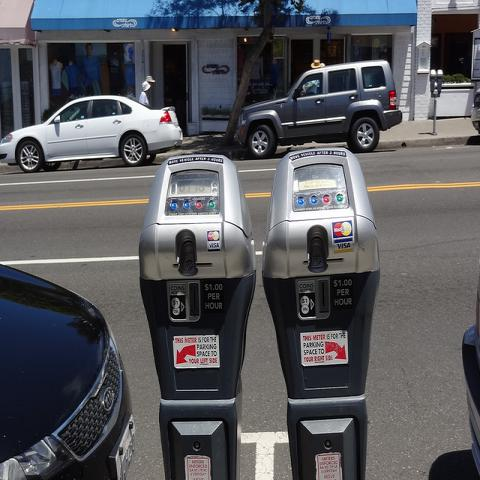car: (0, 262, 138, 474), (238, 58, 403, 156), (1, 94, 184, 173), (461, 273, 479, 479), (470, 86, 480, 135)
